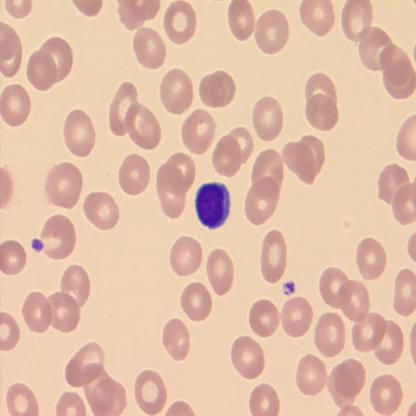Lymphocyte: (194, 180, 232, 230)
